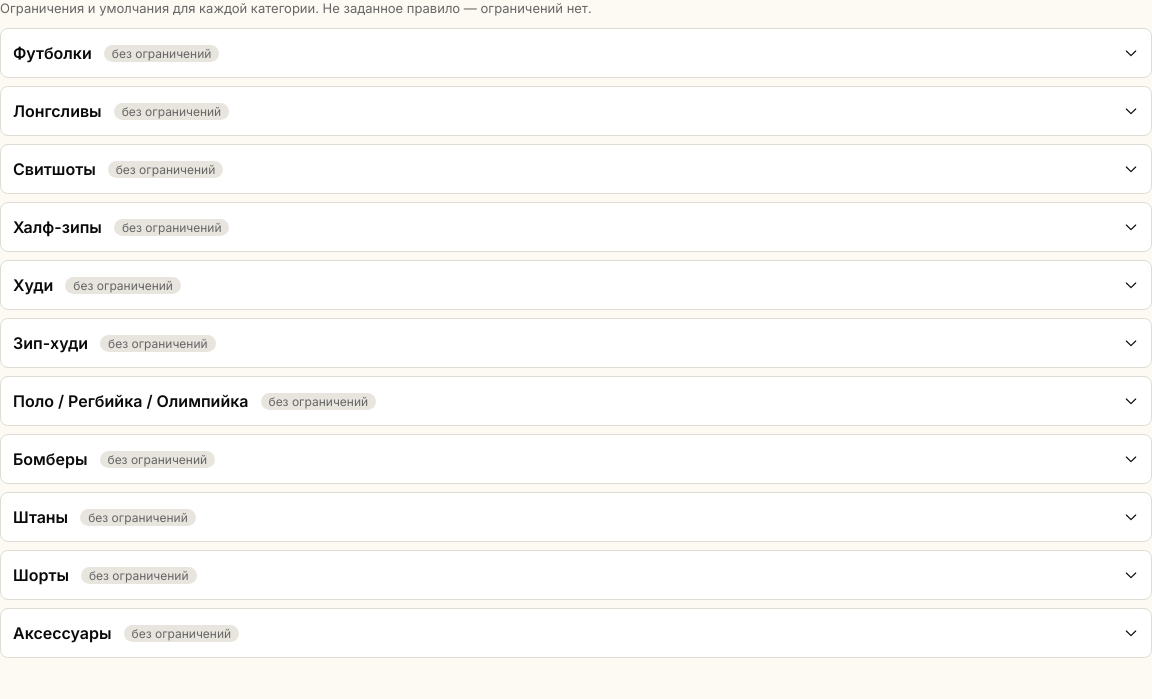
CategoryRulesTab › expands a category on click
Click the text "Футболки" at point(52, 53), box [13, 43, 92, 63]
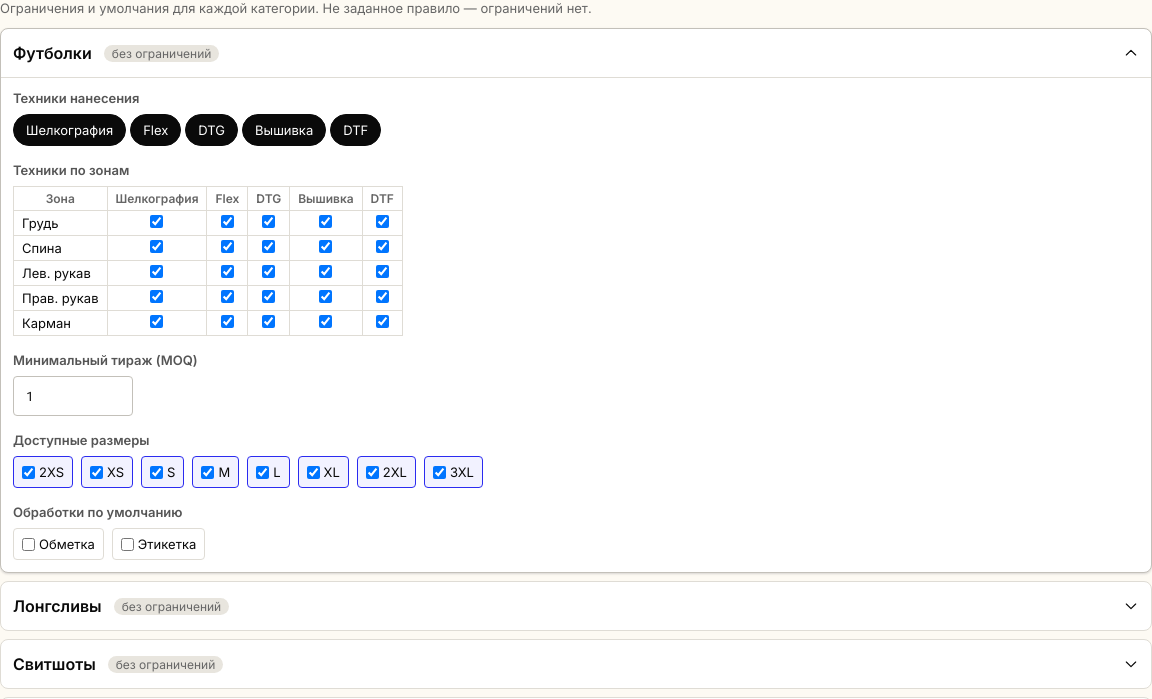
Expected: the heading "Техники нанесения" is shown, [13, 90, 140, 106]
Expected: the text "Минимальный тираж (MOQ)" is shown, [13, 352, 198, 368]
Expected: the heading "Доступные размеры" is shown, [13, 432, 150, 448]
